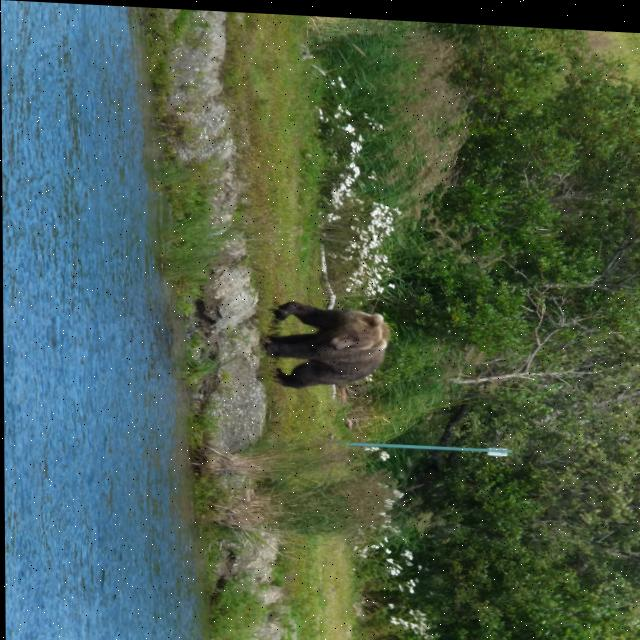bear face: (263, 300, 387, 387)
